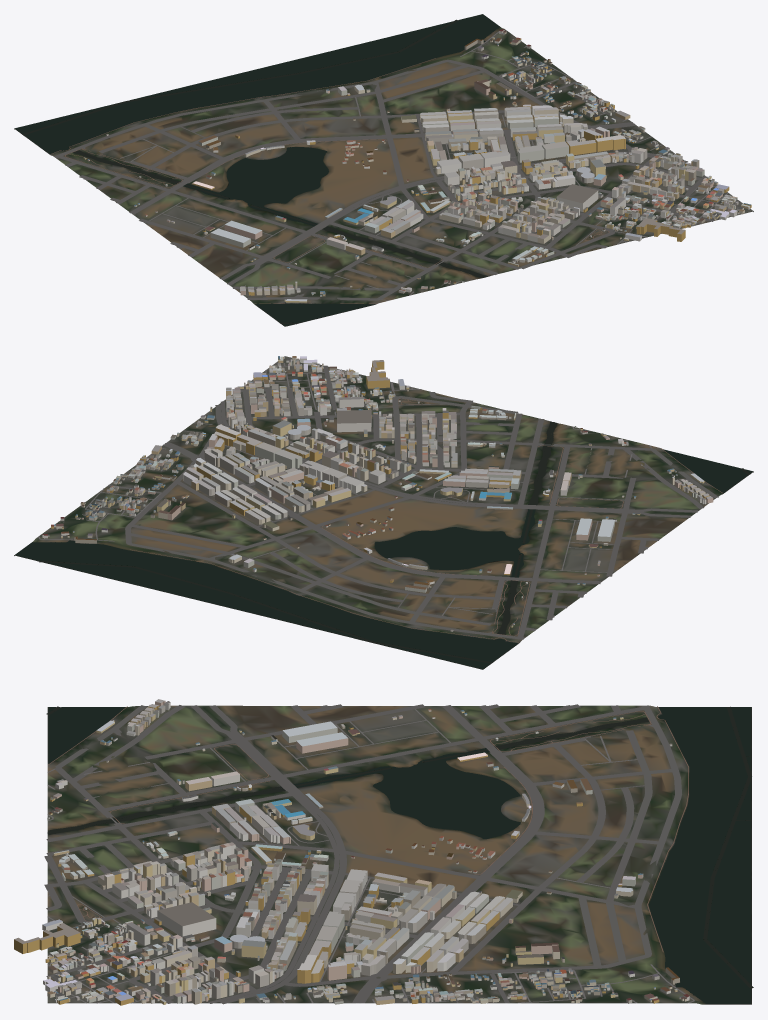
3 renders of one model, top to bottom at view 1: azimuth 30°, elevation 25°; view 2: azimuth 150°, elevation 25°; view 3: azimuth 270°, elevation 25°, orthographic. The views are drawn at different scales.
Parts seen in each view (by area): view 1: ground, buildings, water, roads; view 2: ground, buildings, roads, water; view 3: ground, buildings, roads, water.
Part boxes in pixels (x1,y1,x2,y2): ground: (14,20,753,326); buildings: (83,29,751,302); water: (15,14,499,326); roads: (50,30,739,303); ground: (14,356,753,669); buildings: (42,356,713,631); roads: (38,363,722,642); water: (15,421,752,669); ground: (47,705,751,1004); buildings: (14,699,689,1005); roads: (44,704,694,1004); water: (46,706,753,1003).
Bounding box in the file's own units: 1417 × 35.15 × 1472.
